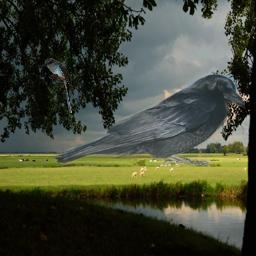Crow: (53, 73, 245, 166)
Cuckoo: (41, 58, 75, 113)
